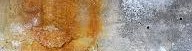Corrosion: (1, 1, 104, 51)
